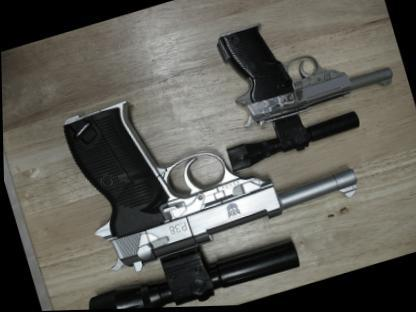pistol: (61, 43, 367, 282), (213, 0, 398, 135)
